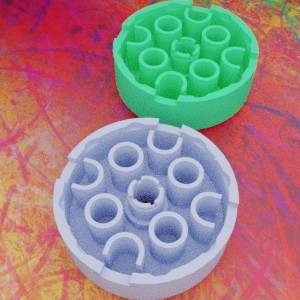lego: (52, 117, 238, 300), (113, 0, 258, 130)
